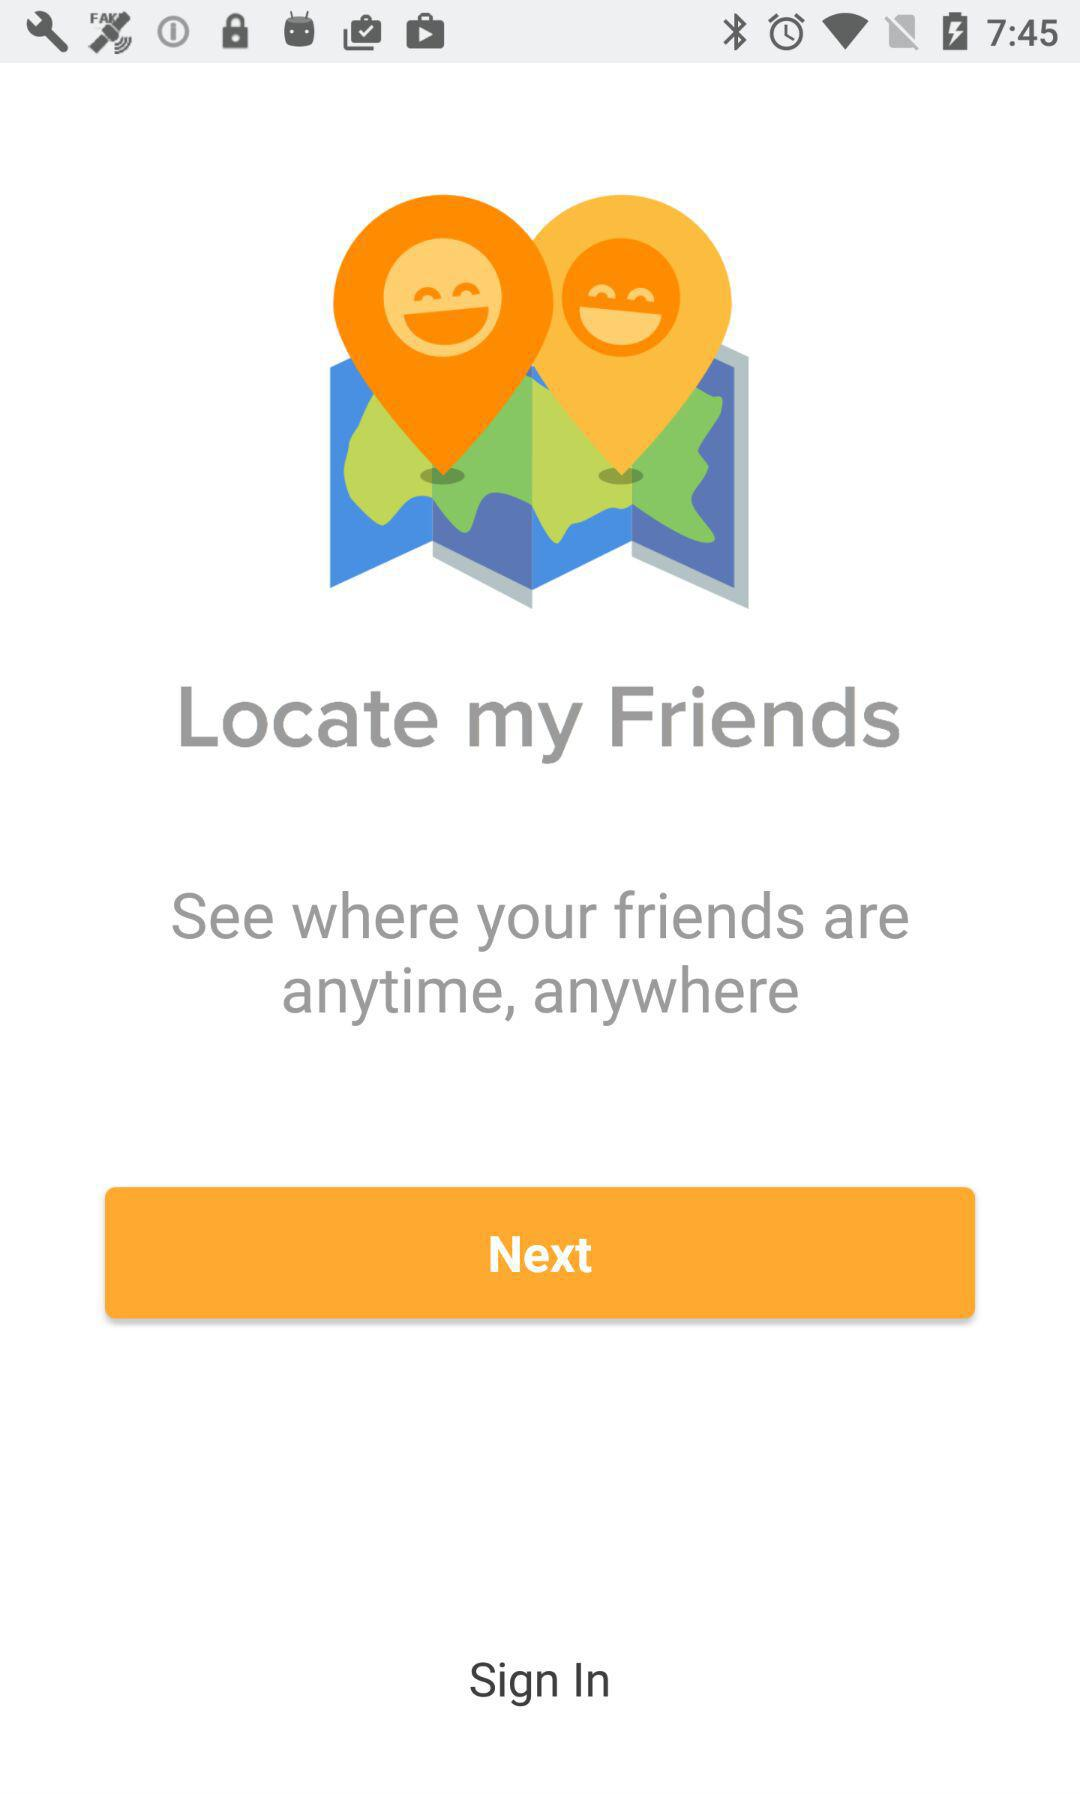Image: (329, 193, 752, 613)
Text: (172, 889, 910, 1028), (181, 684, 901, 766), (470, 1661, 610, 1707)
TextButton: (105, 1187, 978, 1320)
UpperTaskBar: (1, 1, 1080, 64)
